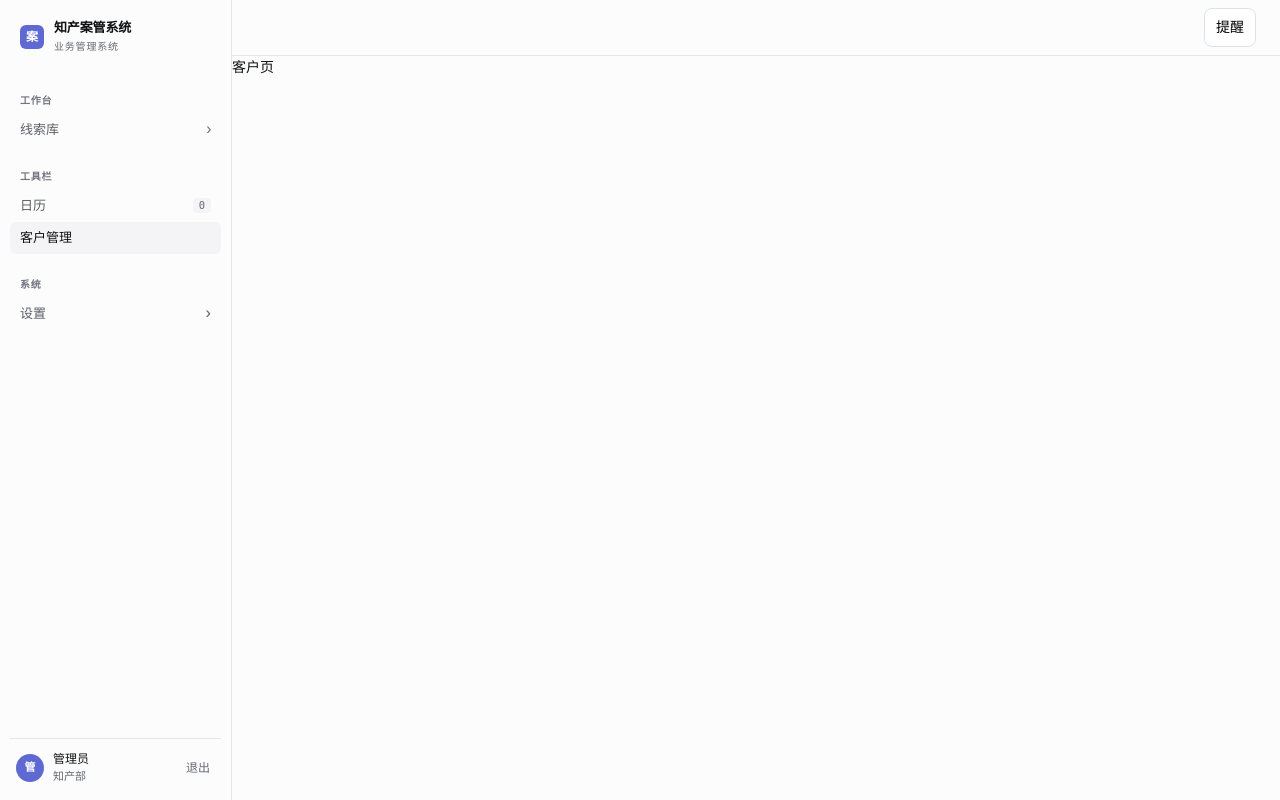
Scenario: application session controls › keeps the signed-in UI and explains a failed logout
The width and height of the screenshot is (1280, 800).
Click the button with test id "logout": (198, 768) x1=181 y1=752 x2=215 y2=784
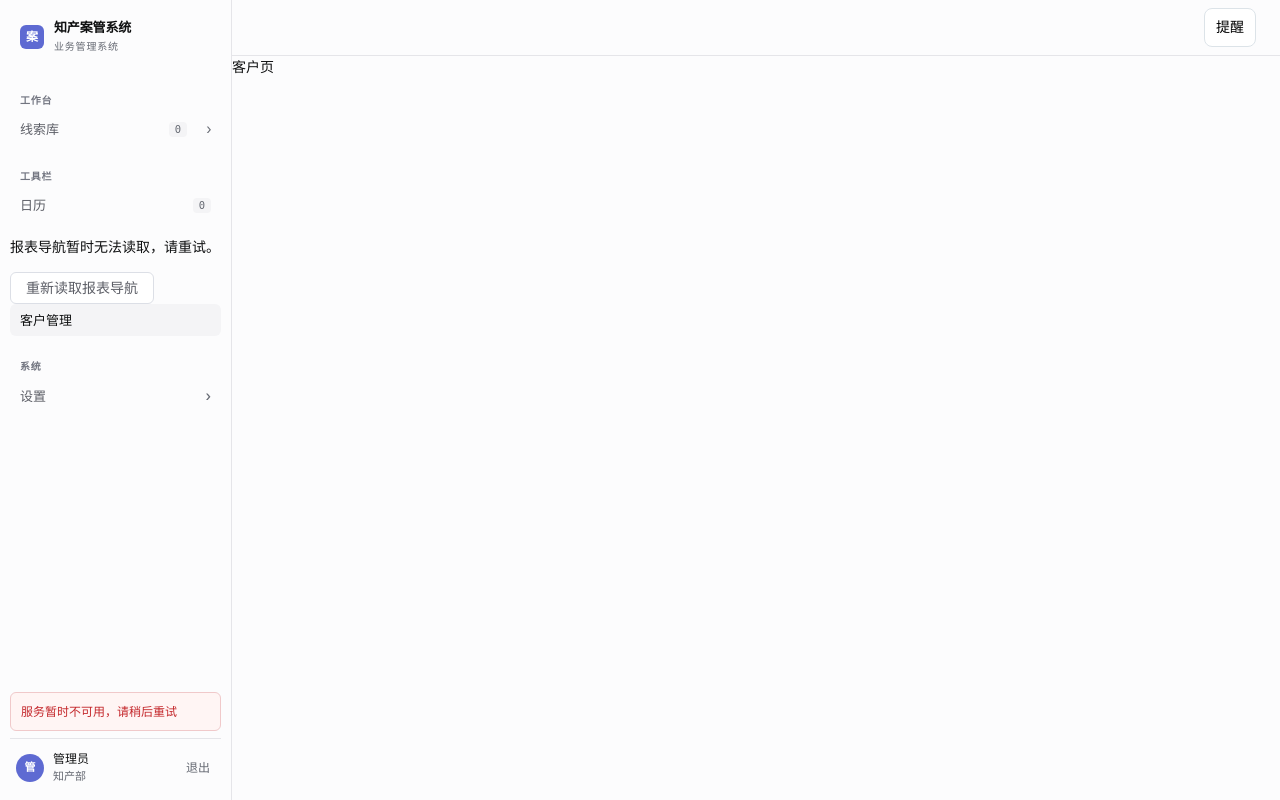
Expected: the message with test id "logout-error" reads "服务暂时不可用，请稍后重试", x1=21 y1=704 x2=177 y2=719
